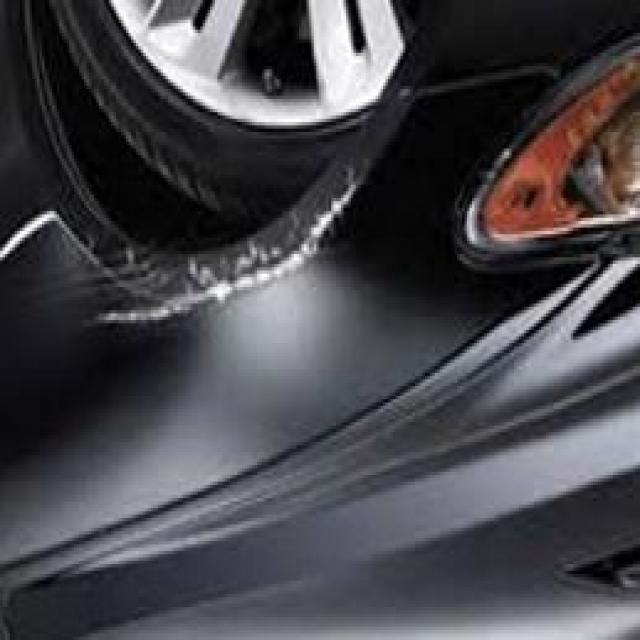scratch: (83, 153, 372, 344)
